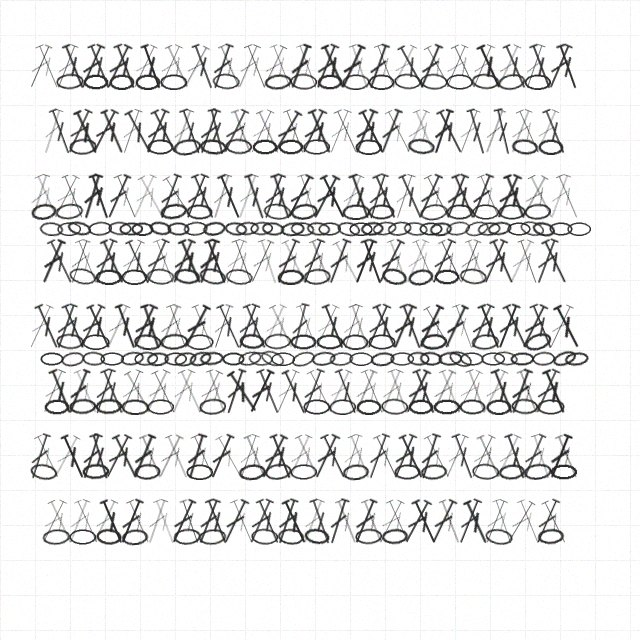chain: (523, 330, 553, 353), (68, 266, 97, 287), (198, 266, 227, 287), (380, 266, 409, 287), (172, 137, 202, 157), (419, 202, 449, 222), (484, 527, 514, 547), (447, 348, 474, 370), (497, 72, 526, 92), (29, 462, 58, 482), (259, 348, 286, 369), (551, 348, 578, 369), (407, 267, 435, 287), (55, 202, 84, 221), (159, 202, 188, 221), (263, 202, 292, 221), (523, 462, 552, 481), (290, 349, 317, 369), (407, 137, 435, 156), (30, 202, 58, 221), (290, 202, 318, 221), (173, 267, 201, 286), (459, 267, 487, 286), (264, 462, 292, 481), (303, 527, 331, 546), (133, 333, 162, 351), (471, 333, 500, 351), (42, 528, 71, 546), (198, 528, 227, 546), (264, 73, 292, 91), (199, 138, 227, 156), (511, 138, 539, 156), (225, 268, 253, 286), (238, 463, 266, 481), (342, 463, 370, 481), (420, 463, 448, 481), (498, 463, 526, 481), (121, 528, 149, 546), (66, 219, 92, 238), (464, 219, 490, 238), (519, 219, 545, 238), (237, 349, 263, 368), (471, 73, 500, 90), (146, 268, 175, 285), (56, 73, 84, 90), (212, 73, 240, 90), (420, 73, 448, 90), (69, 138, 97, 155), (303, 268, 331, 285), (56, 333, 84, 350), (160, 333, 188, 350), (173, 528, 201, 545), (277, 528, 305, 545), (381, 528, 409, 545), (537, 528, 565, 545), (188, 349, 213, 368), (60, 350, 86, 368), (290, 73, 317, 90), (394, 73, 421, 90), (225, 138, 252, 155), (524, 203, 551, 220), (264, 333, 291, 350), (420, 333, 447, 350), (69, 398, 96, 415), (95, 398, 122, 415), (199, 398, 226, 415), (381, 398, 408, 415), (511, 398, 538, 415), (82, 463, 109, 480), (134, 463, 161, 480), (472, 463, 499, 480), (251, 528, 278, 545), (355, 528, 382, 545), (336, 220, 361, 238), (531, 220, 556, 238), (173, 350, 198, 368), (342, 74, 370, 90), (342, 204, 370, 220), (498, 204, 526, 220), (82, 334, 110, 350), (186, 334, 214, 350), (368, 334, 396, 350), (121, 399, 149, 415), (537, 399, 565, 415), (445, 220, 471, 237), (239, 333, 265, 350), (96, 528, 122, 545), (160, 74, 187, 90), (368, 74, 395, 90), (446, 74, 473, 90), (524, 74, 551, 90), (147, 139, 174, 155), (303, 139, 330, 155), (355, 139, 382, 155), (186, 204, 213, 220), (368, 204, 395, 220), (446, 204, 473, 220), (472, 204, 499, 220), (95, 269, 122, 285), (121, 269, 148, 285), (277, 269, 304, 285), (290, 334, 317, 350), (316, 334, 343, 350), (342, 334, 369, 350), (147, 399, 174, 415), (303, 399, 330, 415), (329, 399, 356, 415), (433, 399, 460, 415), (459, 399, 486, 415), (186, 464, 213, 480), (290, 464, 317, 480), (394, 464, 421, 480), (550, 464, 577, 480), (69, 529, 96, 545), (148, 220, 173, 237), (372, 220, 397, 237), (387, 220, 412, 237), (487, 220, 512, 237), (120, 350, 145, 367), (311, 350, 336, 367), (493, 350, 518, 367), (83, 74, 109, 90), (109, 74, 135, 90), (135, 74, 161, 90), (317, 74, 343, 90), (252, 139, 278, 155), (278, 139, 304, 155), (538, 139, 564, 155), (434, 269, 460, 285), (44, 399, 70, 415), (356, 399, 382, 415), (408, 399, 434, 415), (486, 399, 512, 415), (202, 220, 226, 237), (39, 221, 64, 237), (280, 221, 305, 237), (290, 221, 315, 237), (306, 221, 331, 237), (403, 221, 428, 237), (248, 351, 273, 367), (329, 351, 354, 367), (370, 351, 395, 367), (564, 351, 589, 367), (224, 221, 248, 237), (261, 221, 285, 237), (429, 221, 453, 237), (477, 221, 501, 237), (146, 351, 170, 367), (183, 221, 208, 236), (235, 221, 260, 236), (199, 351, 224, 366), (88, 221, 112, 236), (108, 221, 132, 236), (360, 221, 384, 236), (134, 351, 158, 366), (419, 351, 443, 366), (438, 351, 462, 366), (250, 221, 273, 236), (82, 351, 105, 366), (407, 351, 430, 366), (532, 351, 555, 366), (57, 222, 81, 236), (119, 222, 143, 236), (349, 222, 373, 236), (419, 222, 443, 236), (507, 222, 531, 236), (549, 222, 573, 236), (567, 222, 591, 236), (40, 352, 64, 366), (100, 352, 124, 366), (271, 352, 295, 366), (349, 352, 373, 366), (390, 352, 414, 366), (460, 352, 484, 366), (481, 352, 505, 366), (510, 352, 534, 366), (131, 222, 154, 236), (167, 222, 190, 236), (318, 222, 341, 236), (164, 352, 187, 366), (222, 352, 245, 366)
double: (159, 173, 197, 221), (224, 368, 262, 415), (268, 108, 305, 156), (120, 368, 157, 416), (211, 433, 248, 481), (502, 498, 539, 546), (178, 302, 214, 351), (394, 43, 430, 91), (420, 43, 456, 91), (121, 108, 157, 156), (134, 173, 170, 221), (516, 173, 552, 221), (329, 238, 365, 286), (420, 303, 456, 351), (48, 433, 84, 481), (399, 498, 435, 546), (386, 42, 421, 91), (87, 107, 122, 156), (147, 107, 182, 156), (355, 107, 390, 156), (381, 107, 416, 156), (433, 107, 468, 156), (48, 172, 83, 221), (282, 172, 317, 221), (316, 172, 351, 221), (420, 172, 455, 221), (524, 172, 559, 221), (373, 237, 408, 286), (74, 302, 109, 351), (516, 302, 551, 351), (550, 302, 585, 351), (303, 367, 338, 416), (451, 367, 486, 416), (477, 367, 512, 416), (30, 432, 65, 481), (100, 432, 135, 481), (108, 432, 143, 481), (256, 432, 291, 481), (420, 432, 455, 481), (87, 497, 122, 546), (373, 497, 408, 546), (178, 43, 213, 91), (308, 173, 343, 221), (101, 42, 135, 91), (127, 42, 161, 91), (161, 42, 195, 91), (335, 42, 369, 91), (447, 42, 481, 91), (473, 42, 507, 91), (491, 42, 525, 91), (62, 107, 96, 156), (218, 107, 252, 156), (244, 107, 278, 156), (296, 107, 330, 156), (400, 107, 434, 156), (127, 172, 161, 221), (491, 172, 525, 221), (44, 237, 78, 286), (114, 237, 148, 286), (244, 237, 278, 286), (278, 237, 312, 286), (434, 237, 468, 286), (504, 237, 538, 286), (538, 237, 572, 286), (23, 302, 57, 351), (127, 302, 161, 351), (257, 302, 291, 351), (265, 302, 299, 351), (309, 302, 343, 351), (413, 302, 447, 351), (499, 302, 533, 351), (543, 302, 577, 351), (140, 367, 174, 416), (174, 367, 208, 416), (244, 367, 278, 416), (322, 367, 356, 416), (400, 367, 434, 416), (426, 367, 460, 416), (153, 432, 187, 481), (291, 432, 325, 481), (309, 432, 343, 481), (317, 432, 351, 481), (369, 432, 403, 481), (395, 432, 429, 481), (465, 432, 499, 481), (491, 432, 525, 481), (36, 497, 70, 546), (44, 497, 78, 546), (70, 497, 104, 546), (166, 497, 200, 546), (218, 497, 252, 546), (278, 497, 312, 546), (408, 497, 442, 546), (426, 497, 460, 546), (192, 368, 226, 416), (538, 498, 572, 546), (23, 42, 56, 91), (75, 42, 108, 91), (153, 42, 186, 91), (439, 42, 472, 91), (499, 42, 532, 91), (543, 42, 576, 91), (140, 107, 173, 156), (304, 107, 337, 156), (330, 107, 363, 156), (512, 107, 545, 156), (530, 107, 563, 156), (31, 172, 64, 221), (187, 172, 220, 221), (335, 172, 368, 221), (369, 172, 402, 221), (395, 172, 428, 221), (413, 172, 446, 221), (473, 172, 506, 221), (36, 237, 69, 286), (140, 237, 173, 286), (174, 237, 207, 286), (400, 237, 433, 286), (408, 237, 441, 286), (426, 237, 459, 286), (478, 237, 511, 286), (486, 237, 519, 286), (31, 302, 64, 351), (83, 302, 116, 351), (101, 302, 134, 351), (213, 302, 246, 351), (239, 302, 272, 351), (361, 302, 394, 351), (369, 302, 402, 351), (387, 302, 420, 351), (465, 302, 498, 351), (70, 367, 103, 416), (114, 367, 147, 416), (166, 367, 199, 416), (270, 367, 303, 416), (530, 367, 563, 416), (57, 432, 90, 481), (135, 432, 168, 481), (161, 432, 194, 481), (187, 432, 220, 481), (205, 432, 238, 481), (283, 432, 316, 481), (473, 432, 506, 481), (517, 432, 550, 481), (551, 432, 584, 481), (96, 497, 129, 546), (226, 497, 259, 546), (244, 497, 277, 546), (252, 497, 285, 546), (382, 497, 415, 546), (257, 43, 290, 91), (70, 108, 103, 156), (252, 108, 285, 156), (122, 238, 155, 286), (439, 303, 472, 351), (148, 368, 181, 416), (278, 368, 311, 416), (460, 498, 493, 546), (32, 42, 64, 91), (50, 42, 82, 91), (58, 42, 90, 91), (84, 42, 116, 91), (214, 42, 246, 91), (232, 42, 264, 91), (240, 42, 272, 91), (310, 42, 342, 91), (318, 42, 350, 91), (414, 42, 446, 91), (466, 42, 498, 91), (97, 107, 129, 156), (323, 107, 355, 156), (349, 107, 381, 156), (409, 107, 441, 156), (539, 107, 571, 156), (102, 172, 134, 221), (110, 172, 142, 221), (180, 172, 212, 221), (214, 172, 246, 221), (440, 172, 472, 221), (448, 172, 480, 221), (552, 172, 584, 221), (71, 237, 103, 286), (89, 237, 121, 286), (97, 237, 129, 286), (167, 237, 199, 286), (219, 237, 251, 286), (271, 237, 303, 286), (305, 237, 337, 286), (349, 237, 381, 286), (453, 237, 485, 286), (58, 302, 90, 351), (318, 302, 350, 351), (474, 302, 506, 351), (492, 302, 524, 351), (526, 302, 558, 351), (37, 367, 69, 416), (45, 367, 77, 416), (97, 367, 129, 416), (253, 367, 285, 416), (349, 367, 381, 416), (357, 367, 389, 416), (375, 367, 407, 416), (409, 367, 441, 416), (435, 367, 467, 416), (487, 367, 519, 416), (539, 367, 571, 416), (240, 432, 272, 481), (344, 432, 376, 481), (388, 432, 420, 481), (440, 432, 472, 481), (544, 432, 576, 481), (115, 497, 147, 546), (123, 497, 155, 546), (149, 497, 181, 546), (201, 497, 233, 546), (297, 497, 329, 546), (331, 497, 363, 546), (349, 497, 381, 546), (357, 497, 389, 546), (453, 497, 485, 546), (479, 497, 511, 546), (513, 497, 545, 546), (531, 497, 563, 546), (110, 42, 141, 91), (188, 42, 219, 91), (266, 42, 297, 91), (292, 42, 323, 91), (370, 42, 401, 91), (526, 42, 557, 91), (45, 107, 76, 156), (167, 107, 198, 156), (227, 107, 258, 156), (279, 107, 310, 156), (375, 107, 406, 156), (453, 107, 484, 156), (479, 107, 510, 156), (505, 107, 536, 156), (58, 172, 89, 221), (154, 172, 185, 221), (232, 172, 263, 221), (258, 172, 289, 221), (466, 172, 497, 221), (500, 172, 531, 221), (544, 172, 575, 221), (149, 237, 180, 286), (201, 237, 232, 286), (297, 237, 328, 286), (323, 237, 354, 286), (357, 237, 388, 286), (383, 237, 414, 286), (461, 237, 492, 286), (531, 237, 562, 286), (154, 302, 185, 351), (162, 302, 193, 351), (188, 302, 219, 351), (232, 302, 263, 351), (292, 302, 323, 351), (396, 302, 427, 351), (448, 302, 479, 351), (63, 367, 94, 416), (297, 367, 328, 416), (505, 367, 536, 416), (513, 367, 544, 416), (128, 432, 159, 481), (266, 432, 297, 481), (448, 432, 479, 481), (63, 497, 94, 546), (193, 497, 224, 546), (435, 497, 466, 546), (137, 42, 167, 91), (207, 42, 237, 91), (285, 42, 315, 91), (345, 42, 375, 91), (363, 42, 393, 91), (519, 42, 549, 91), (553, 42, 583, 91), (116, 107, 146, 156), (176, 107, 206, 156), (194, 107, 224, 156), (293, 172, 323, 221), (345, 172, 375, 221), (389, 172, 419, 221), (64, 237, 94, 286), (228, 237, 258, 286), (51, 302, 81, 351), (111, 302, 141, 351), (207, 302, 237, 351), (345, 302, 375, 351), (202, 367, 232, 416), (332, 367, 362, 416), (384, 367, 414, 416), (462, 367, 492, 416), (233, 432, 263, 481), (363, 432, 393, 481), (501, 432, 531, 481), (142, 497, 172, 546), (272, 497, 302, 546), (306, 497, 336, 546), (488, 497, 518, 546), (38, 107, 67, 156), (428, 107, 457, 156), (25, 172, 54, 221), (85, 172, 114, 221), (207, 172, 236, 221), (241, 172, 270, 221), (267, 172, 296, 221), (363, 172, 392, 221), (194, 237, 223, 286), (254, 237, 283, 286), (514, 237, 543, 286), (137, 302, 166, 351), (337, 302, 366, 351), (90, 367, 119, 416), (25, 432, 54, 481), (77, 432, 106, 481), (415, 432, 444, 481), (527, 432, 556, 481), (176, 497, 205, 546), (324, 497, 353, 546), (463, 107, 491, 156), (78, 172, 106, 221), (221, 367, 249, 416), (86, 432, 114, 481), (182, 432, 210, 481), (338, 432, 366, 481), (204, 107, 230, 156), (490, 107, 516, 156), (287, 302, 313, 351)
